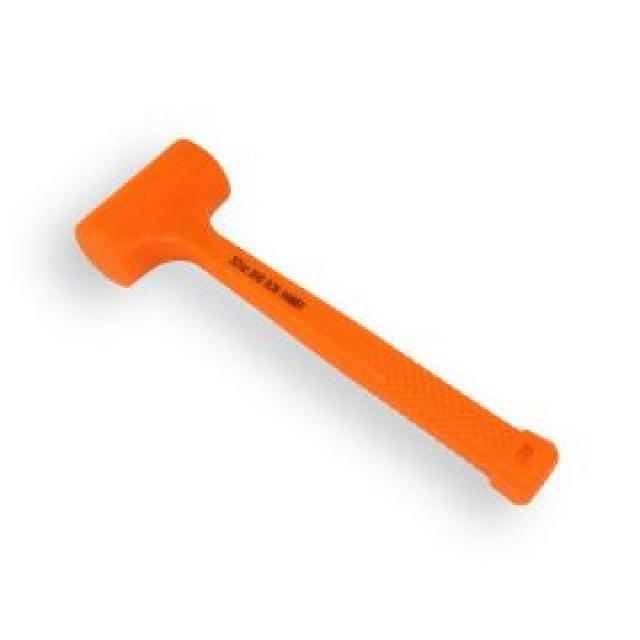hammer: (65, 126, 572, 522)
